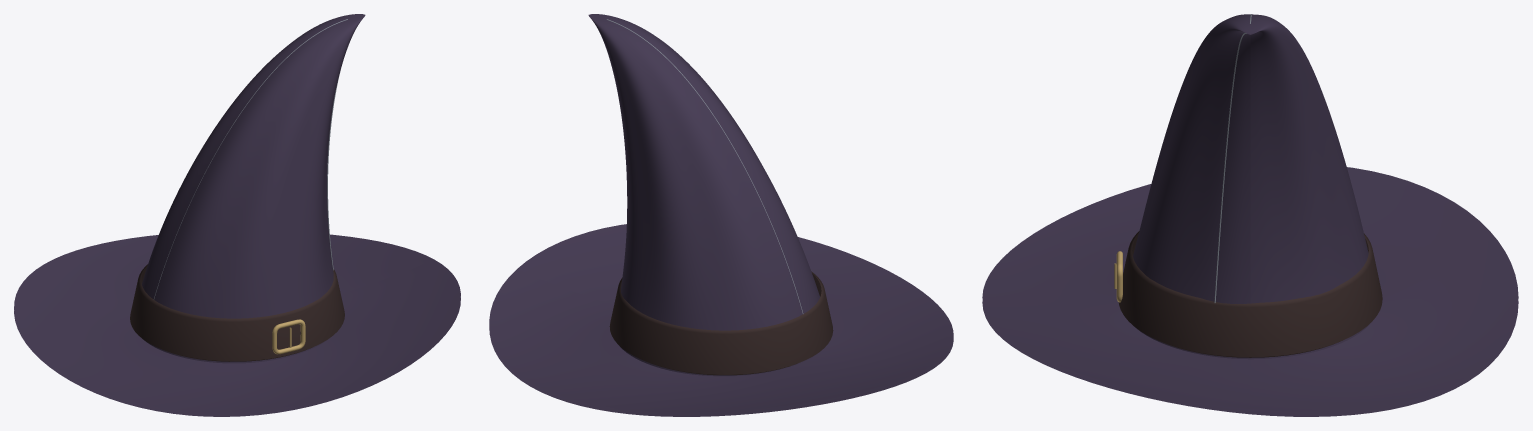
File: wizard_hat.glb
3 renders of one model, left to right at view 1: azimuth 30°, elevation 25°; view 2: azimuth 150°, elevation 25°; view 3: azimuth 270°, elevation 25°, orthographic. The views are drawn at different scales.
Visible parts, largest first — view 1: blender_wizard_hat:WizardV5_Felt, blender_wizard_hat:WizardV5_LeatherBand, blender_wizard_hat:Atelier_TonalStitch, blender_wizard_hat:Atelier_BrushedBrass; view 2: blender_wizard_hat:WizardV5_Felt, blender_wizard_hat:WizardV5_LeatherBand; view 3: blender_wizard_hat:WizardV5_Felt, blender_wizard_hat:WizardV5_LeatherBand, blender_wizard_hat:Atelier_TonalStitch.
Boxes of the visible parts, bbox=[...] form: blender_wizard_hat:WizardV5_Felt: bbox=[14, 14, 460, 416]; blender_wizard_hat:WizardV5_LeatherBand: bbox=[130, 264, 344, 361]; blender_wizard_hat:Atelier_TonalStitch: bbox=[153, 19, 347, 299]; blender_wizard_hat:Atelier_BrushedBrass: bbox=[272, 319, 305, 354]; blender_wizard_hat:WizardV5_Felt: bbox=[489, 14, 953, 416]; blender_wizard_hat:WizardV5_LeatherBand: bbox=[609, 271, 833, 375]; blender_wizard_hat:WizardV5_Felt: bbox=[982, 14, 1518, 416]; blender_wizard_hat:WizardV5_LeatherBand: bbox=[1118, 231, 1382, 357]; blender_wizard_hat:Atelier_TonalStitch: bbox=[1214, 14, 1251, 302].
Bounding box in the file's own units: 0.402 × 0.2742 × 0.3739.
